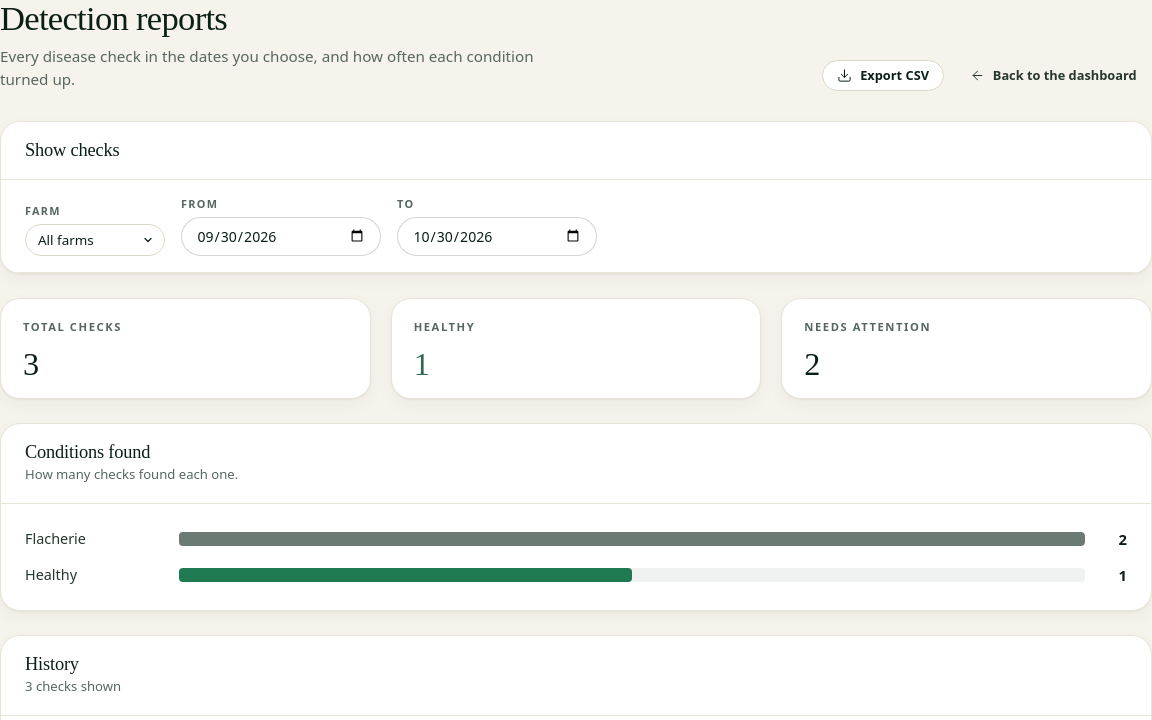
Test: Detection reports page › shows Reset only once something has changed, and puts everything back with it
This screenshot has width=1152, height=720.
Expected: the button "Reset" is not shown
Type "2026-01-01" into the date field labelled "From". click: (281, 236)
box: [181,217,381,256]
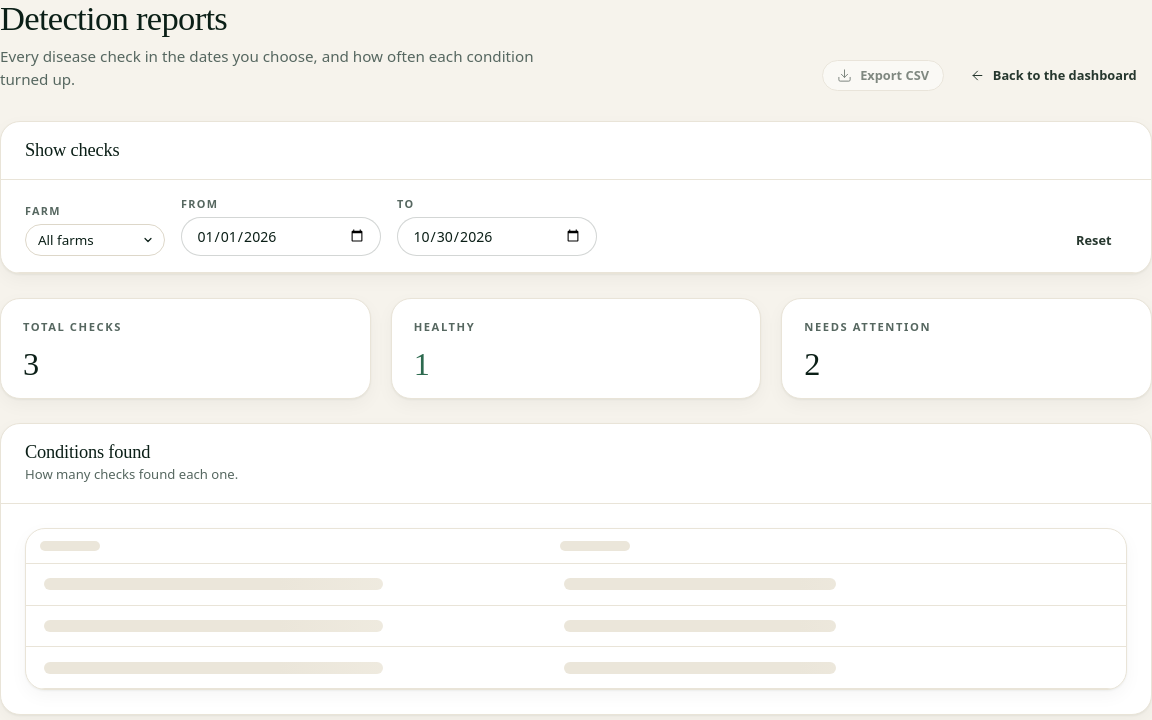
Select "Gad's farm" in the dropdown labelled "Farm". click: (95, 240)
box: [25,224,165,256]
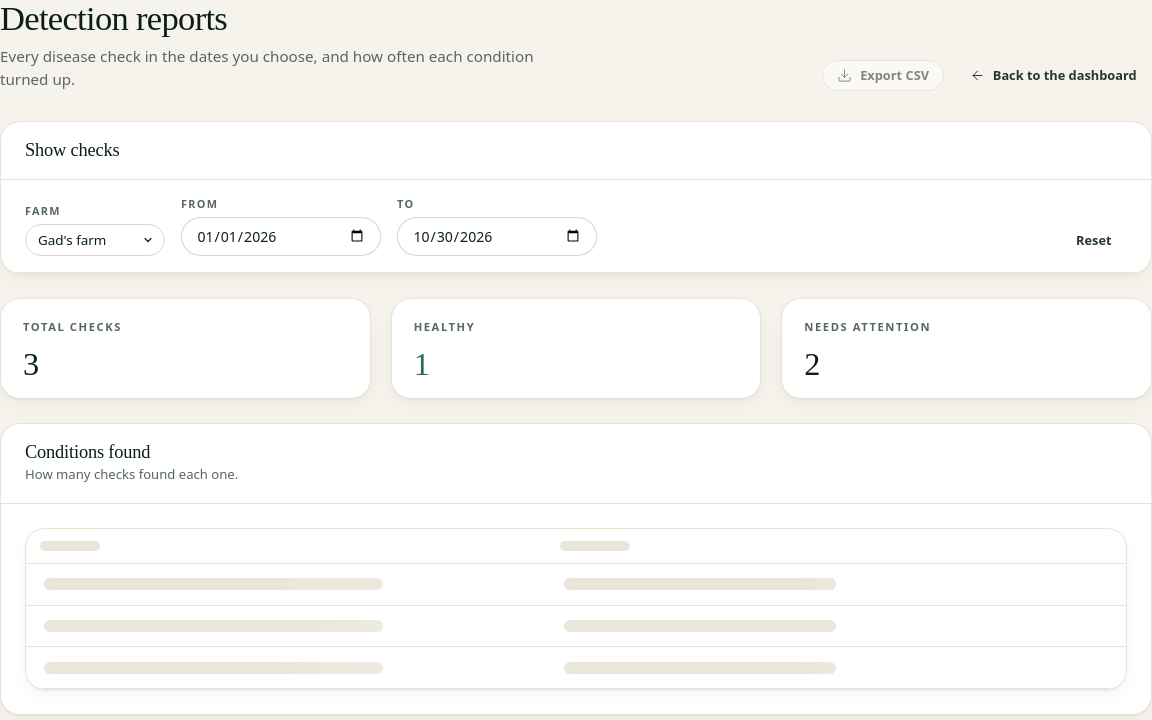
Click the button "Reset". click: (1094, 240)
box: [1061,225,1127,256]
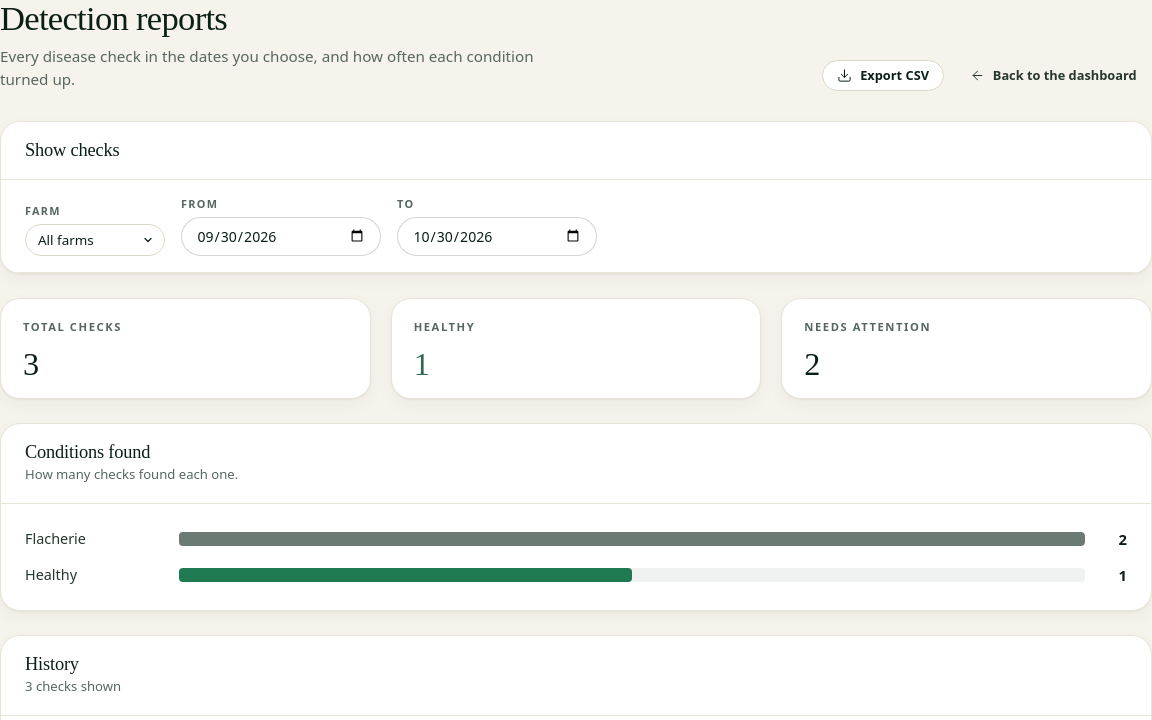
Result: the date field labelled "From" holds "2026-09-30" at [181,217,381,256]
Result: the button "Reset" is gone
